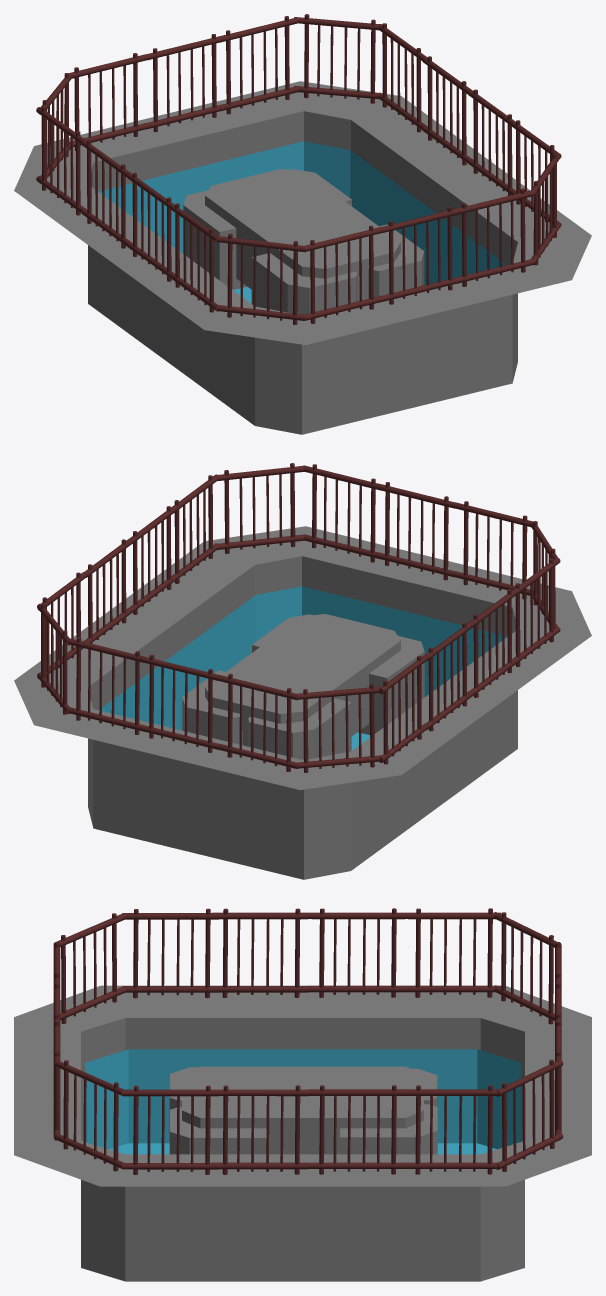
3 renders of one model, top to bottom at view 1: azimuth 30°, elevation 25°; view 2: azimuth 150°, elevation 25°; view 3: azimuth 270°, elevation 25°, orthographic. The views are drawn at different scales.
Parts seen in each view (by area): view 1: polySurface2 Reja2:pasted__pasted__pCylinder1; view 2: polySurface2 Reja2:pasted__pasted__pCylinder1; view 3: polySurface2 Reja2:pasted__pasted__pCylinder1.
Boxes of the visible parts, x1,y1,x2,y2 form: polySurface2 Reja2:pasted__pasted__pCylinder1: (14,14,591,434); polySurface2 Reja2:pasted__pasted__pCylinder1: (14,463,591,879); polySurface2 Reja2:pasted__pasted__pCylinder1: (14,908,591,1281).
Bounding box in the file's own units: 11.26 × 5.62 × 13.68.
20 materials, 20 textured.
